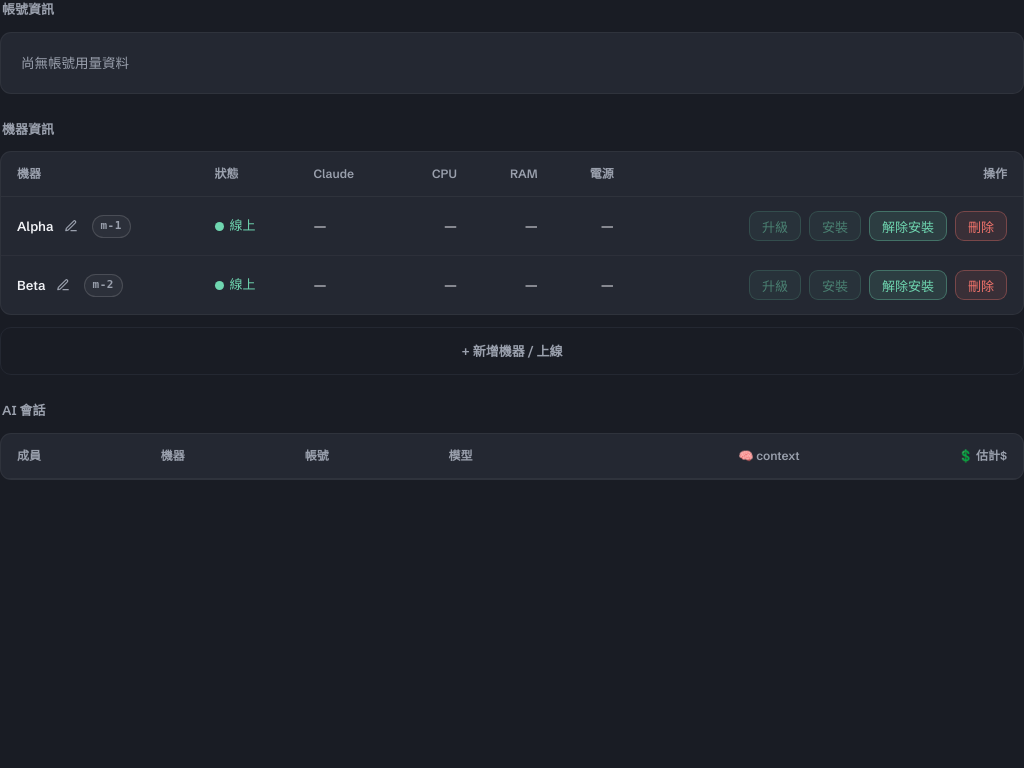
MonitorPage uninstall members guard › warns and lists the bound member when the machine still has members
This screenshot has width=1024, height=768.
Click the button with test id "mon-uninstall-btn" in the row of "Alpha": [908, 226] box [869,211,947,241]
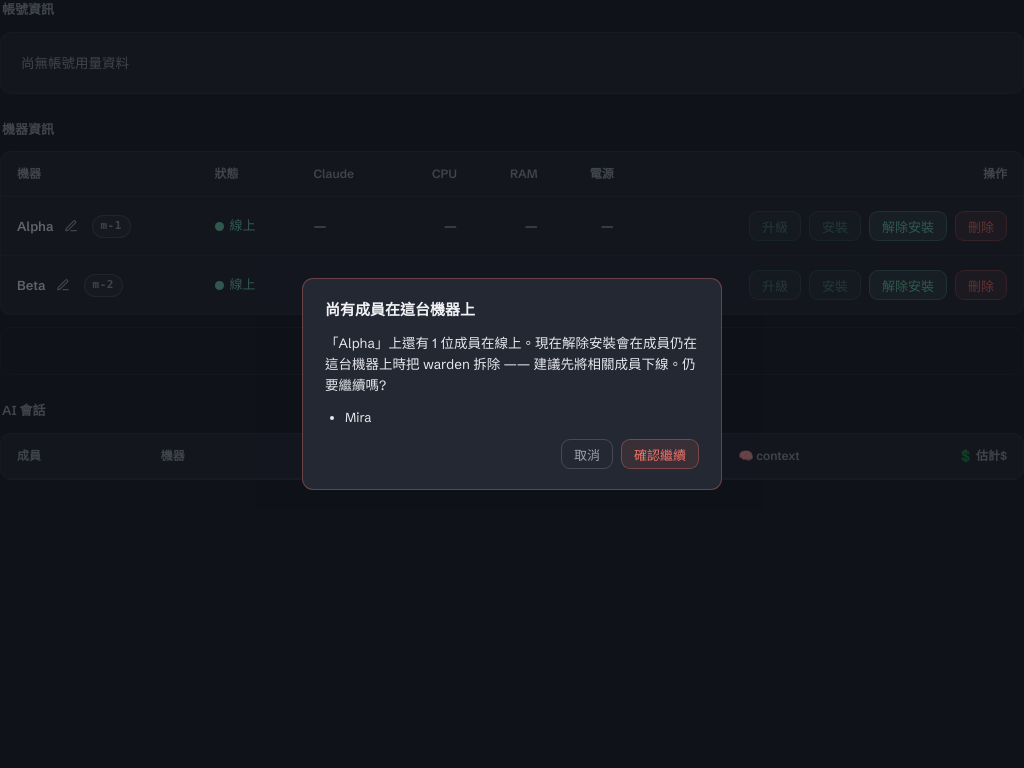
Result: the dialog with test id "mon-uninstall-warn" is shown
Result: the list with test id "mon-uninstall-warn-members" reads "Mira" at [345,409,371,425]
